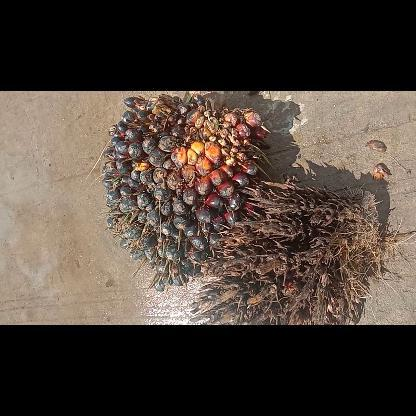Janjang kosong: (190, 180, 382, 324)
TBS mentah: (100, 95, 272, 290)
